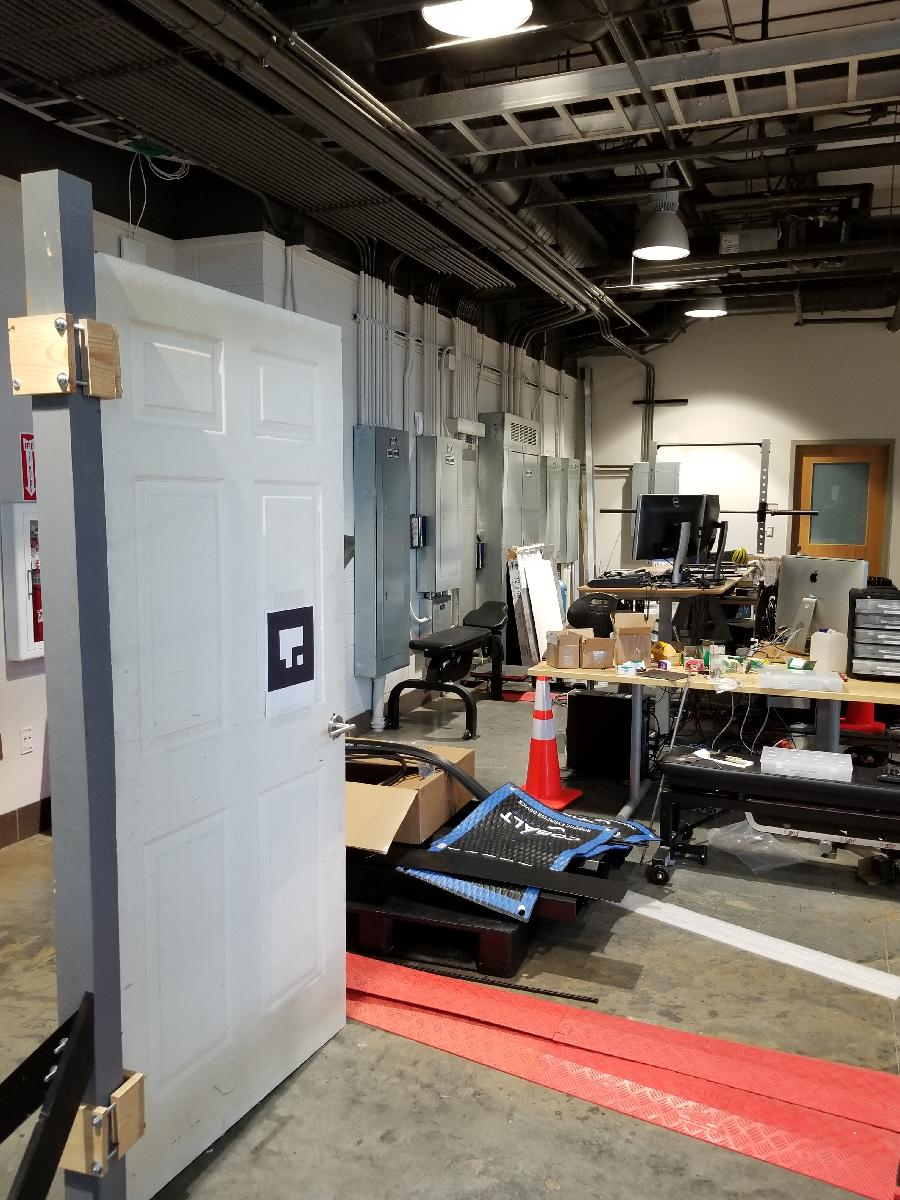door: (88, 247, 353, 1200)
doorHandle: (325, 714, 363, 746)
